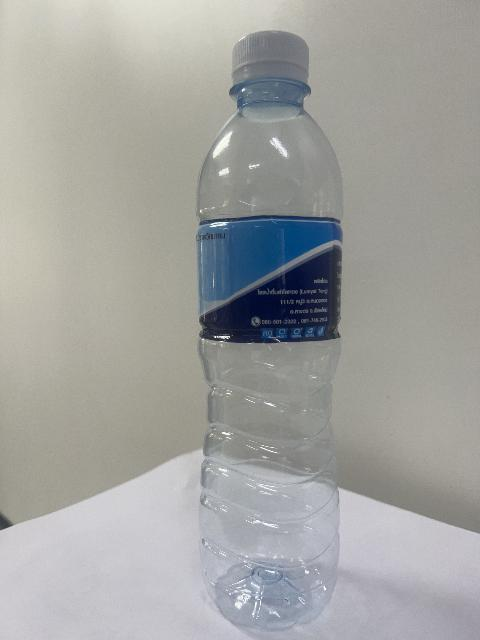bottle: (197, 31, 342, 629)
